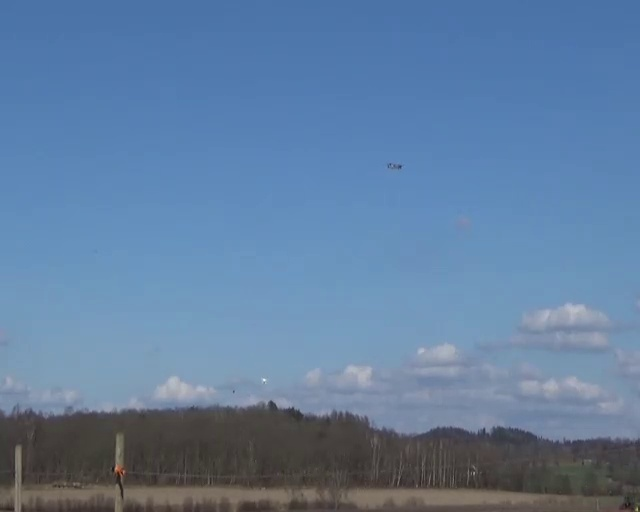DRONE: (387, 162, 404, 170)
